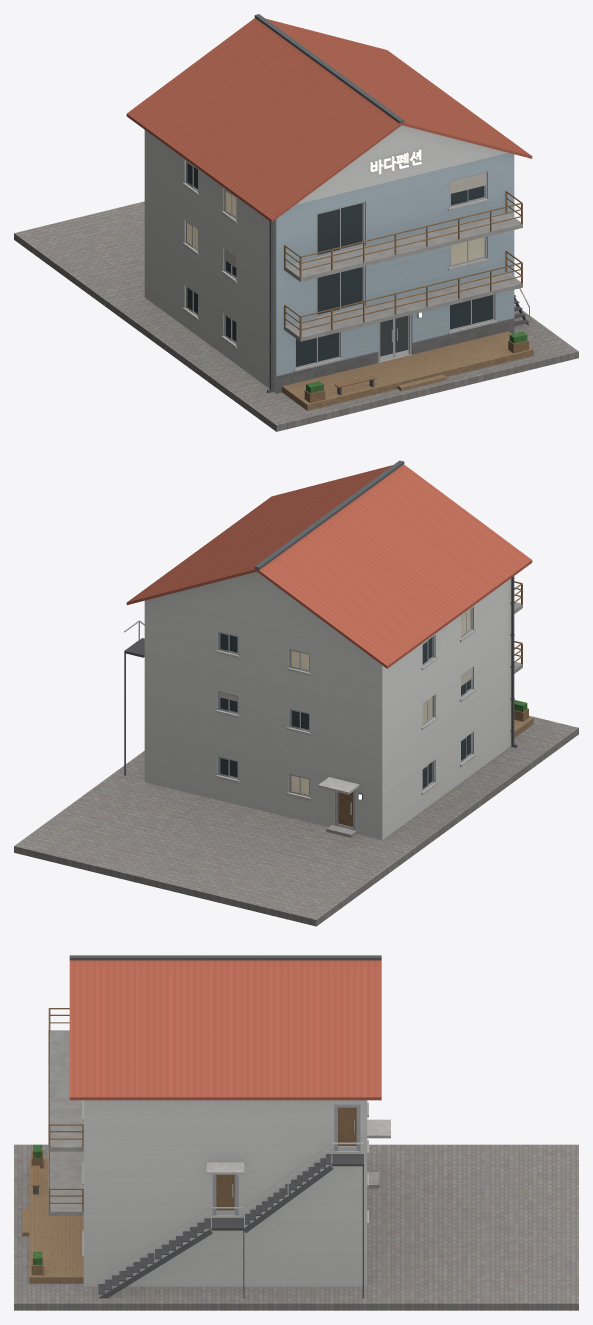
File: IlsanPension01.fbx
3 views of the same model, one above another, from view 1: azimuth 30°, elevation 25°; view 2: azimuth 150°, elevation 25°; view 3: azimuth 270°, elevation 25° (orthographic). The views are drawn at different scales.
Parts seen in each view (by area): view 1: IlsanPension01; view 2: IlsanPension01; view 3: IlsanPension01.
Part boxes in pixels (box(x1,y1,x2,y2)): IlsanPension01: box(14, 14, 578, 431); IlsanPension01: box(14, 460, 578, 926); IlsanPension01: box(14, 955, 578, 1310).
Bounding box in the file's own units: 15.9 × 12.83 × 23.9.
Materials: 1 (1 with a texture image).
